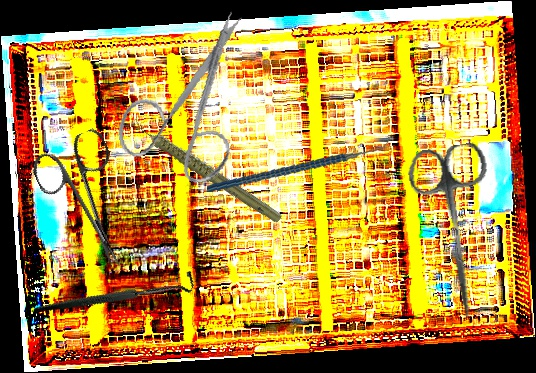Chopper: (206, 115, 393, 211)
Handpiece: (130, 89, 285, 249)
Hook Surgical: (33, 226, 198, 359)
Iris Scissors: (97, 7, 275, 197), (26, 126, 154, 282), (404, 140, 510, 324)
